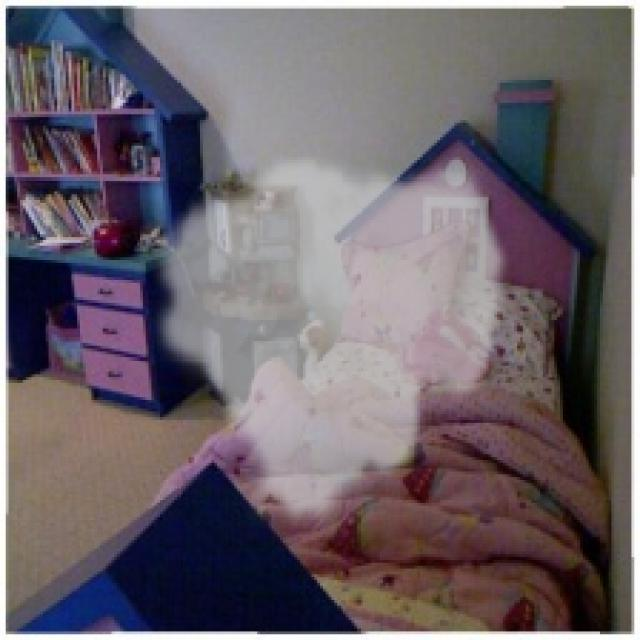Smoke: (146, 152, 512, 532)
